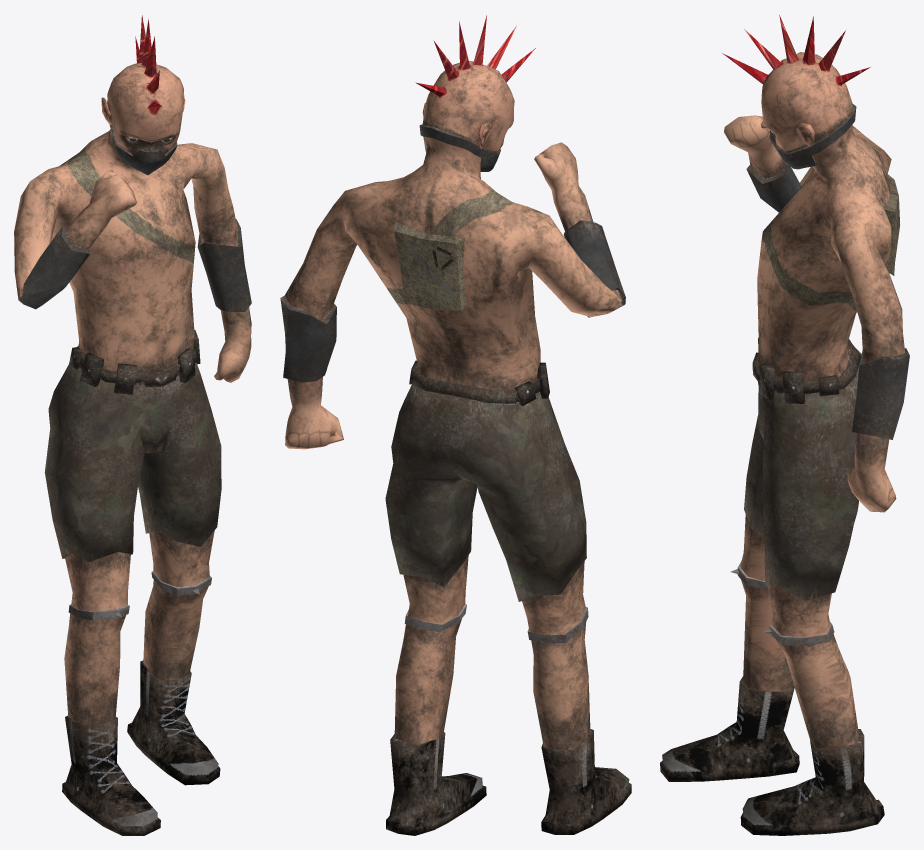
The model's file is Anim_perder_1_npc2.0048.obj.
3 renders of one model, left to right at view 1: azimuth 30°, elevation 25°; view 2: azimuth 150°, elevation 25°; view 3: azimuth 270°, elevation 25°, orthographic. The views are drawn at different scales.
Visible parts, largest first — view 1: polySurface1; view 2: polySurface1; view 3: polySurface1.
Boxes of the visible parts, <box> form: polySurface1: <box>14,15,251,835</box>; polySurface1: <box>280,15,631,835</box>; polySurface1: <box>660,15,909,835</box>.
Size of the model in its own units: 3.8 by 9.99 by 2.84.
